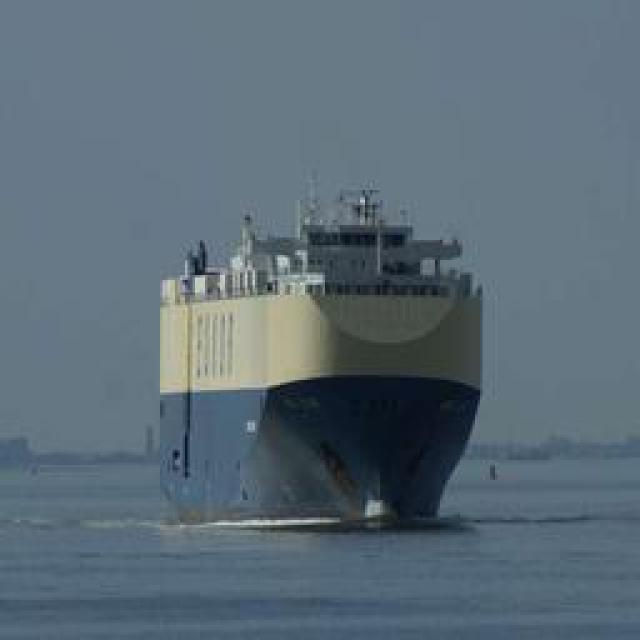Ship: (162, 165, 485, 533)
